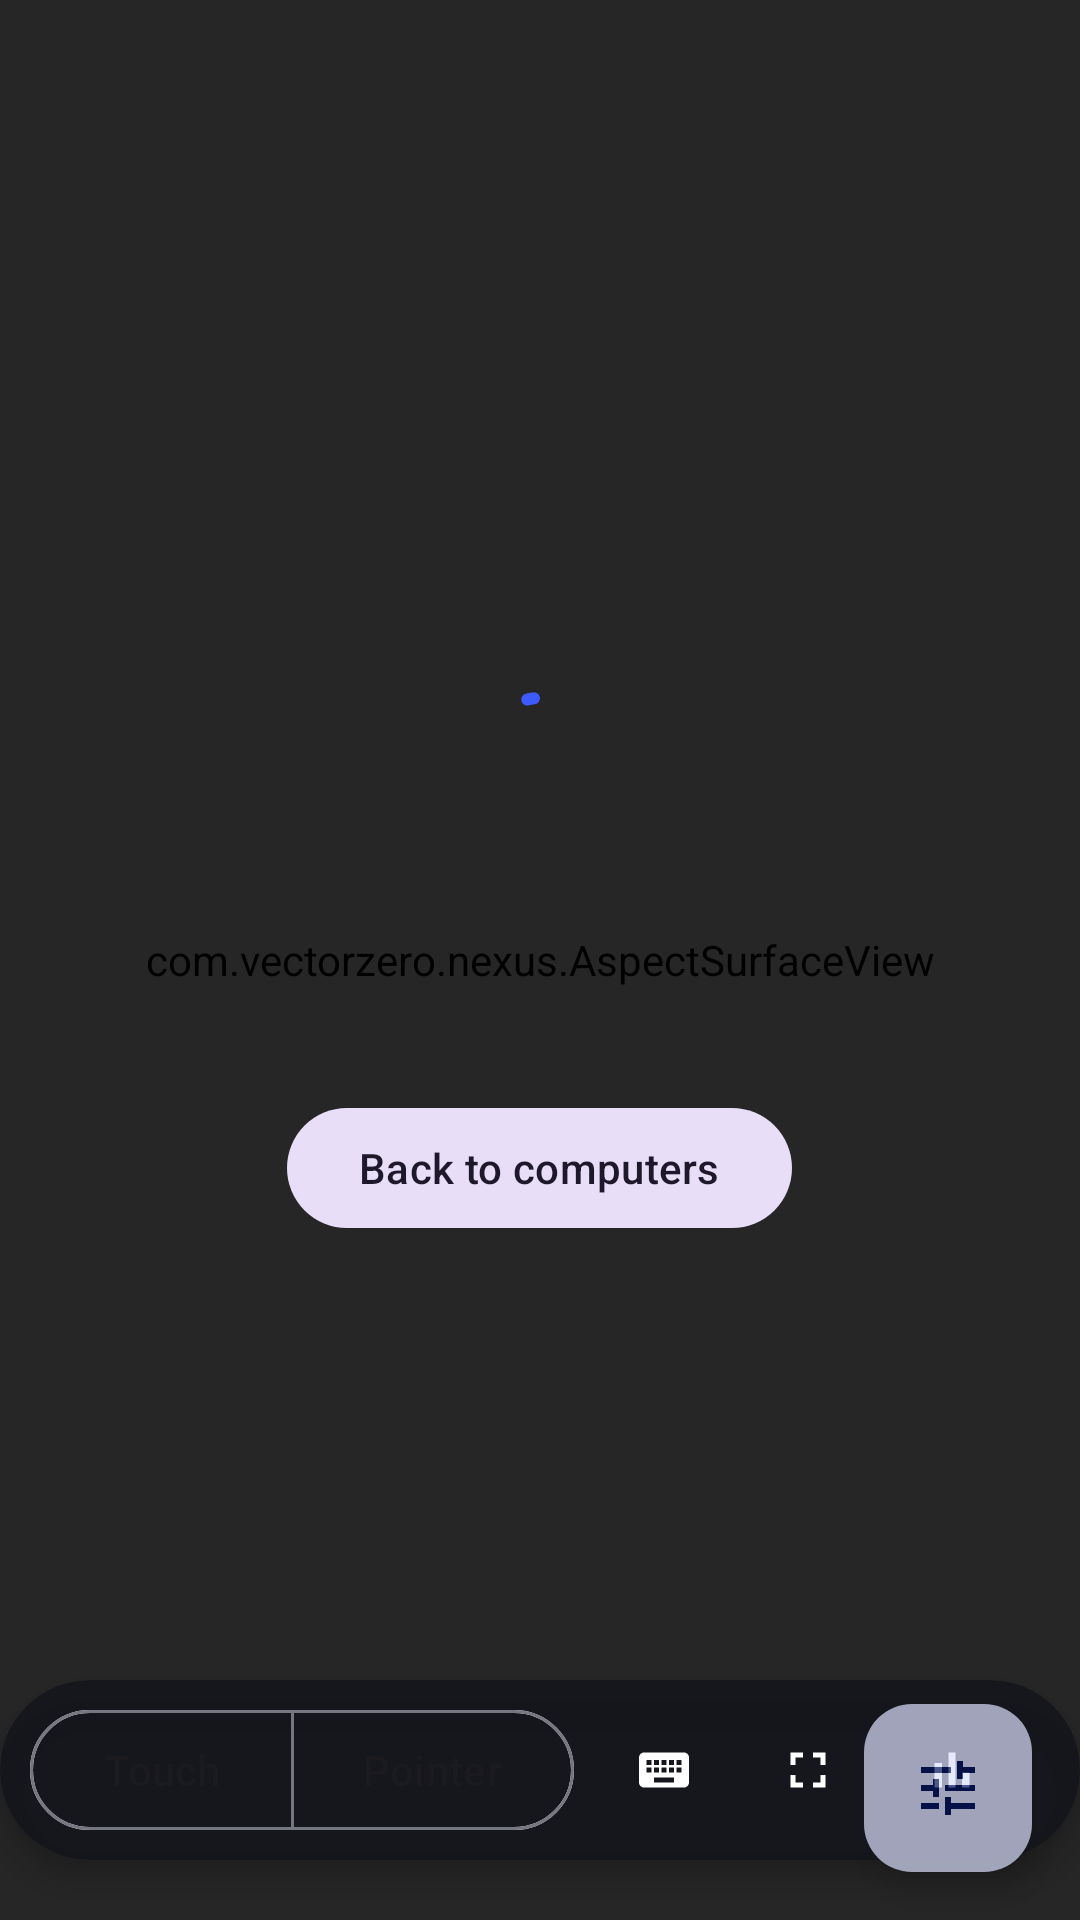

Named icons in this screenshot (1080x1920) and their bounding boxes, (x1, y1, x2, y2):
Keys: (639, 1752, 689, 1788)
